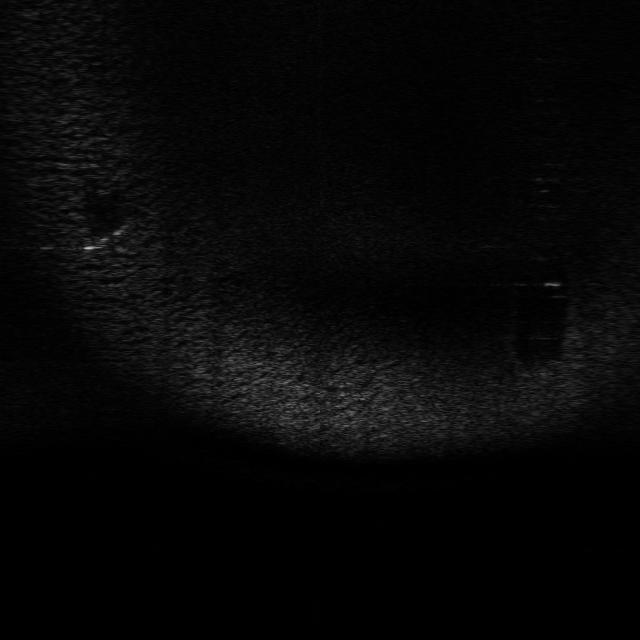plane: (76, 220, 140, 258)
